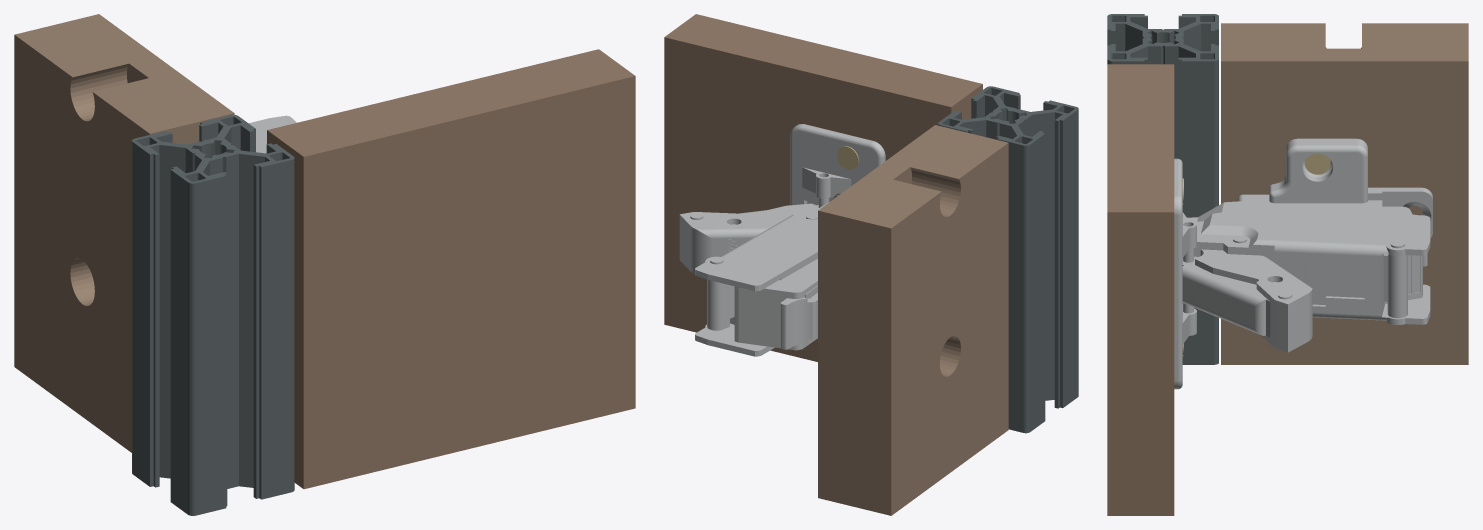
The model's file is hinge-0.glb.
3 views of the same model, side by side, from view 1: azimuth 30°, elevation 25°; view 2: azimuth 150°, elevation 25°; view 3: azimuth 270°, elevation 25° (orthographic). The views are drawn at different scales.
Parts seen in each view (by area): view 1: Left-door-face-18, Post-4-23, Left-pegboard-18, Blum-1-71T6650-body-2; view 2: Left-pegboard-18, Left-door-face-18, Post-4-23, Blum-1-71T6650-body-2, Blum-1-71T6650-body-5, Blum-1-71T6650-body-3, Blum-1-71T6650-body-0, Blum-1-71T6650-body-6, Blum-1-71T6650-body-1; view 3: Left-pegboard-18, Left-door-face-18, Blum-1-71T6650-body-2, Post-4-23, Blum-1-175H7190, Blum-1-71T6650-body-3, Blum-1-71T6650-body-4, Blum-1-71T6650-body-5, Blum-1-71T6650-body-0, Blum-1-71T6650-body-1, Blum-1-609.1500-plate-2.
Boxes of the visible parts, x1=… form: Left-door-face-18: x1=267, y1=49, x2=635, y2=489; Post-4-23: x1=132, y1=115, x2=294, y2=515; Left-pegboard-18: x1=14, y1=14, x2=234, y2=452; Blum-1-71T6650-body-2: x1=249, y1=115, x2=296, y2=153; Left-pegboard-18: x1=818, y1=125, x2=1008, y2=515; Left-door-face-18: x1=664, y1=14, x2=982, y2=361; Post-4-23: x1=938, y1=86, x2=1078, y2=433; Blum-1-71T6650-body-2: x1=695, y1=202, x2=829, y2=356; Blum-1-71T6650-body-5: x1=790, y1=124, x2=885, y2=207; Blum-1-71T6650-body-3: x1=679, y1=203, x2=816, y2=274; Blum-1-71T6650-body-0: x1=734, y1=259, x2=817, y2=350; Blum-1-71T6650-body-6: x1=780, y1=285, x2=817, y2=349; Blum-1-71T6650-body-1: x1=707, y1=279, x2=734, y2=330; Left-pegboard-18: x1=1221, y1=23, x2=1468, y2=364; Left-door-face-18: x1=1107, y1=64, x2=1174, y2=515; Blum-1-71T6650-body-2: x1=1182, y1=208, x2=1430, y2=324; Post-4-23: x1=1107, y1=14, x2=1218, y2=364; Blum-1-175H7190: x1=1237, y1=138, x2=1432, y2=238; Blum-1-71T6650-body-3: x1=1195, y1=249, x2=1312, y2=352; Blum-1-71T6650-body-4: x1=1182, y1=256, x2=1277, y2=337; Blum-1-71T6650-body-5: x1=1174, y1=158, x2=1196, y2=389; Blum-1-71T6650-body-0: x1=1187, y1=200, x2=1422, y2=303; Blum-1-71T6650-body-1: x1=1383, y1=254, x2=1407, y2=318; Blum-1-609.1500-plate-2: x1=1304, y1=153, x2=1330, y2=174.
Bounding box in the file's own units: 0.126 × 0.09 × 0.097.
